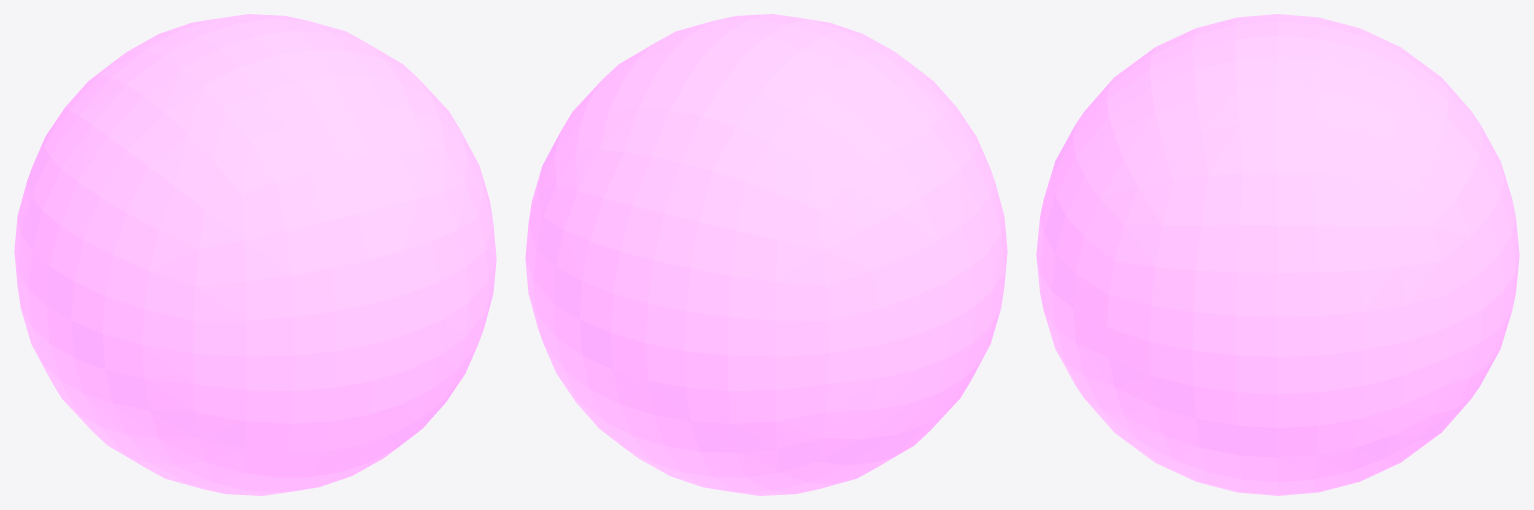
3 renders of one model, left to right at view 1: azimuth 30°, elevation 25°; view 2: azimuth 150°, elevation 25°; view 3: azimuth 270°, elevation 25°, orthographic.
Parts seen in each view (by area): view 1: Roundcube.002; view 2: Roundcube.002; view 3: Roundcube.002.
Boxes of the visible parts, x1=… form: Roundcube.002: x1=14, y1=14, x2=496, y2=495; Roundcube.002: x1=525, y1=14, x2=1007, y2=495; Roundcube.002: x1=1036, y1=14, x2=1519, y2=495.
Bounding box in the file's own units: 3.34 × 3.34 × 3.34.
